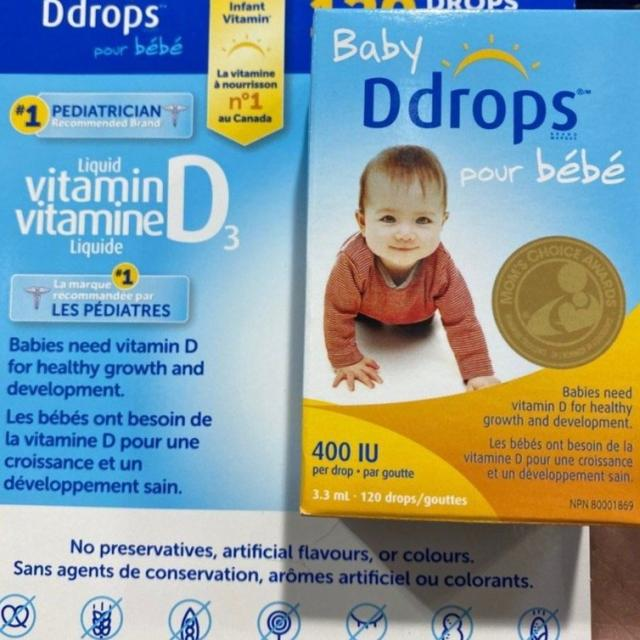mini-drop: (7, 0, 633, 635)
